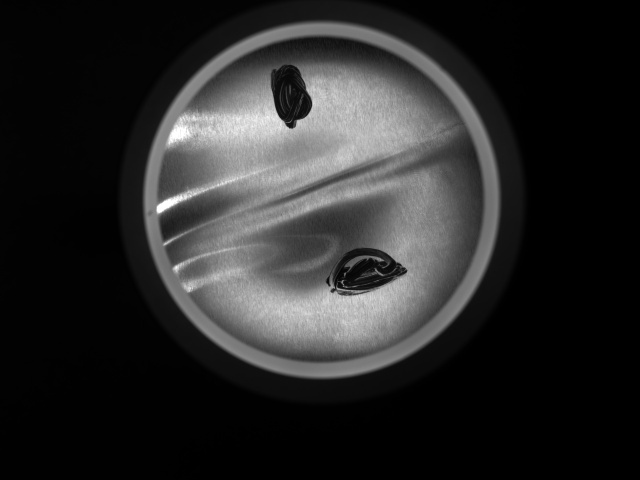zang_wu: (324, 246, 412, 297), (269, 63, 317, 132)
zhe_zhou: (210, 61, 434, 337)
